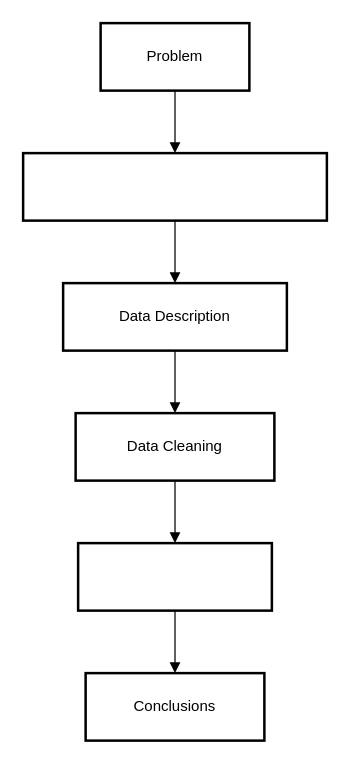
The diagram is 349 pixels wide and 763 high, and some of its shapes have lost their labels. Here are the shapes that lost their labels. From the top down, the centre of each, then its label:
[174,186]: Data Gathering & Storage
[174,576]: Data Analysis
